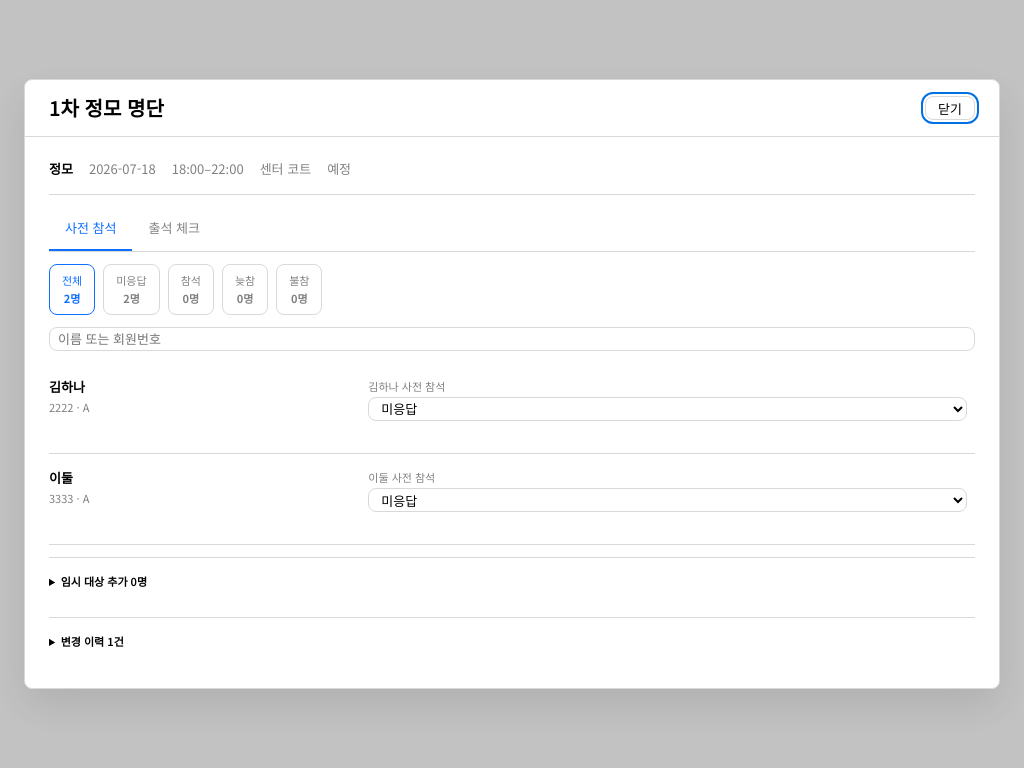
MeetingRosterModal › keeps ad-hoc controls closed after the member list and before history
Click the heading "임시 대상 추가 0명": [104, 581] box [61,573,147,589]
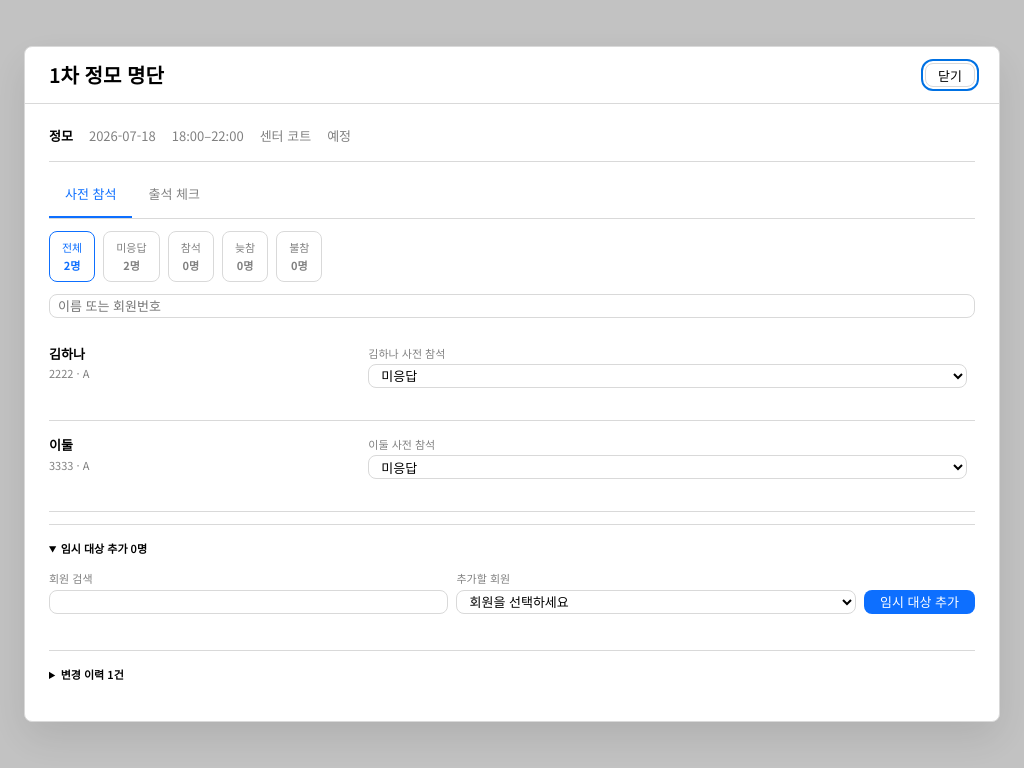
Now the search field named "임시 대상 검색" is shown, box [49,590,448,614]
